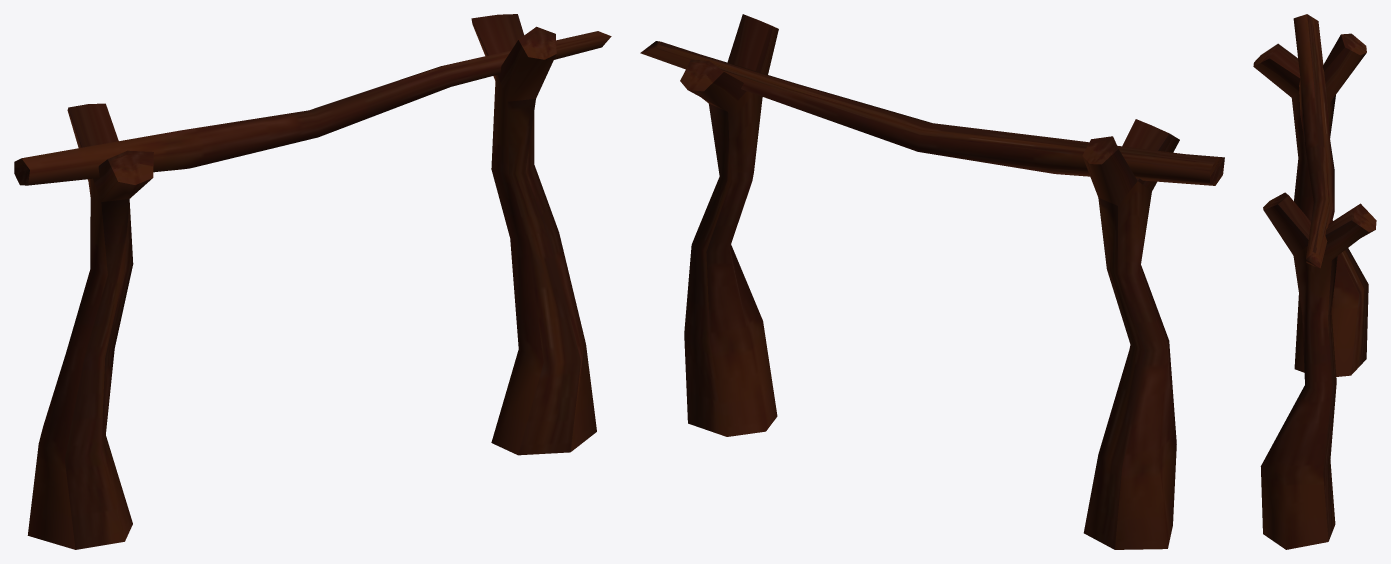
Rendered from SM_PROP_campfire_poles.glb.
The picture shows the model from 3 angles, left to right: view 1: azimuth 30°, elevation 25°; view 2: azimuth 150°, elevation 25°; view 3: azimuth 270°, elevation 25°; orthographic projection. The views are drawn at different scales.
Parts seen in each view (by area): view 1: SM_PROP_campfire_poles_EXPORT; view 2: SM_PROP_campfire_poles_EXPORT; view 3: SM_PROP_campfire_poles_EXPORT.
Part boxes in pixels (bbox=[...]): SM_PROP_campfire_poles_EXPORT: bbox=[14, 14, 611, 549]; SM_PROP_campfire_poles_EXPORT: bbox=[640, 14, 1224, 549]; SM_PROP_campfire_poles_EXPORT: bbox=[1253, 14, 1376, 549].
Bounding box in the file's own units: 1.68 × 1.13 × 0.3786.
1 material, 1 textured.
